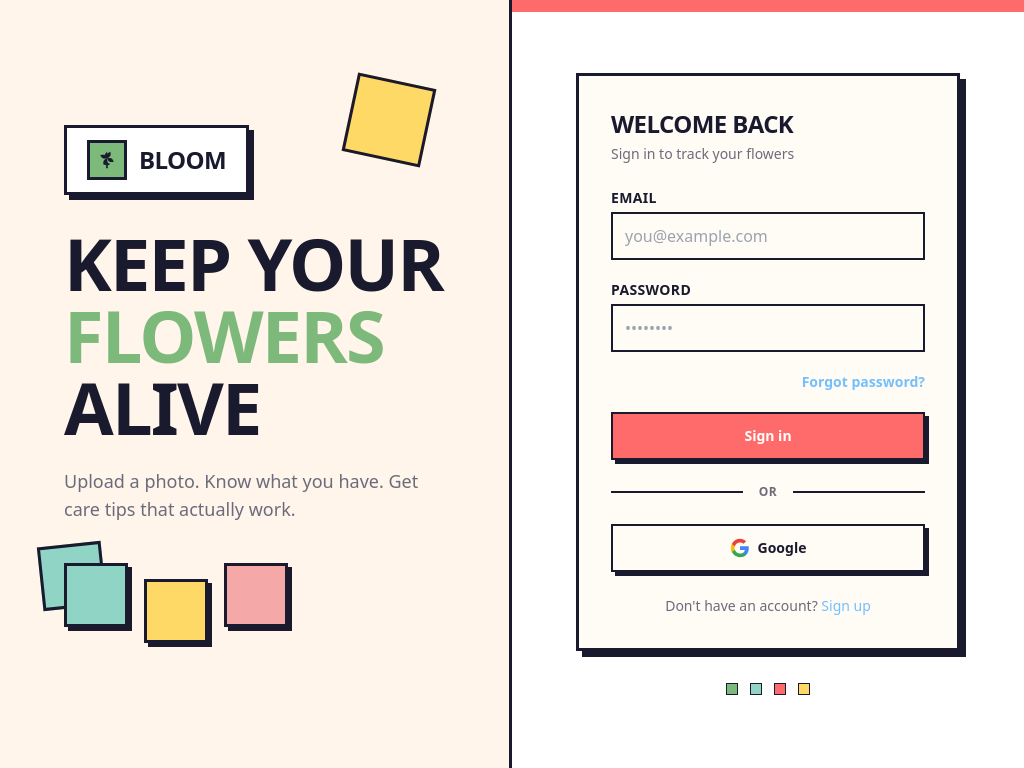
Scenario: LoginPage › shows loading state during submission
Type "user@example.com" into the field labelled "Email". click: (768, 236)
box: x1=611 y1=212 x2=925 y2=260
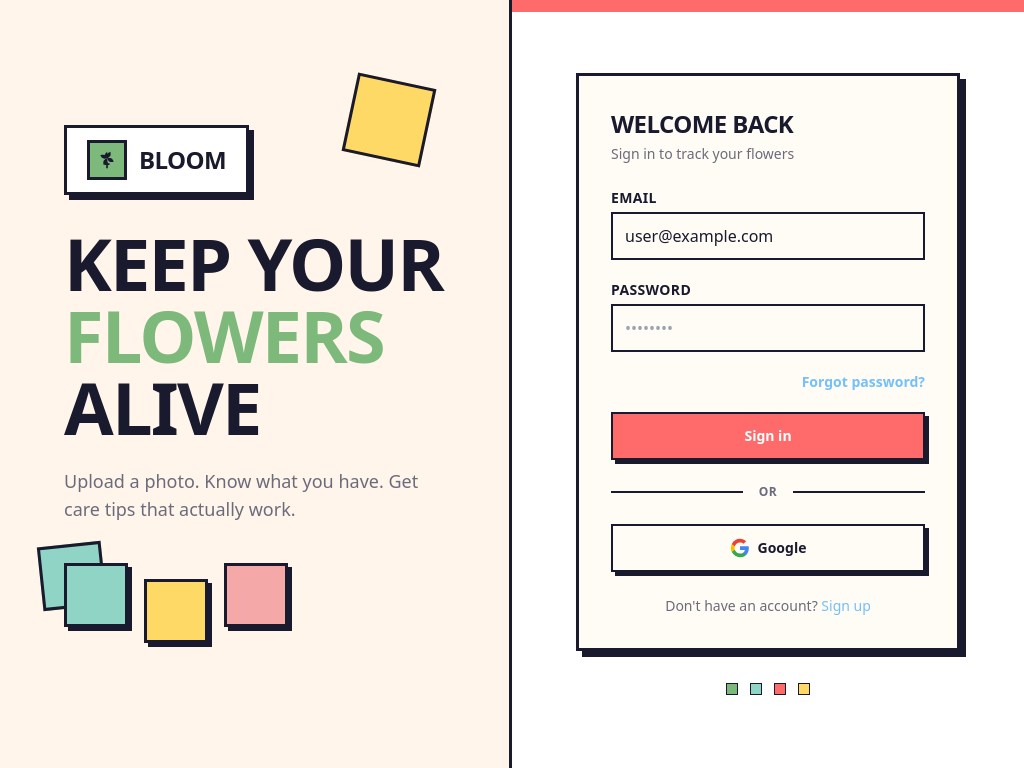
Type "password123" into the password field labelled "Password". click: (768, 328)
box: x1=611 y1=304 x2=925 y2=352
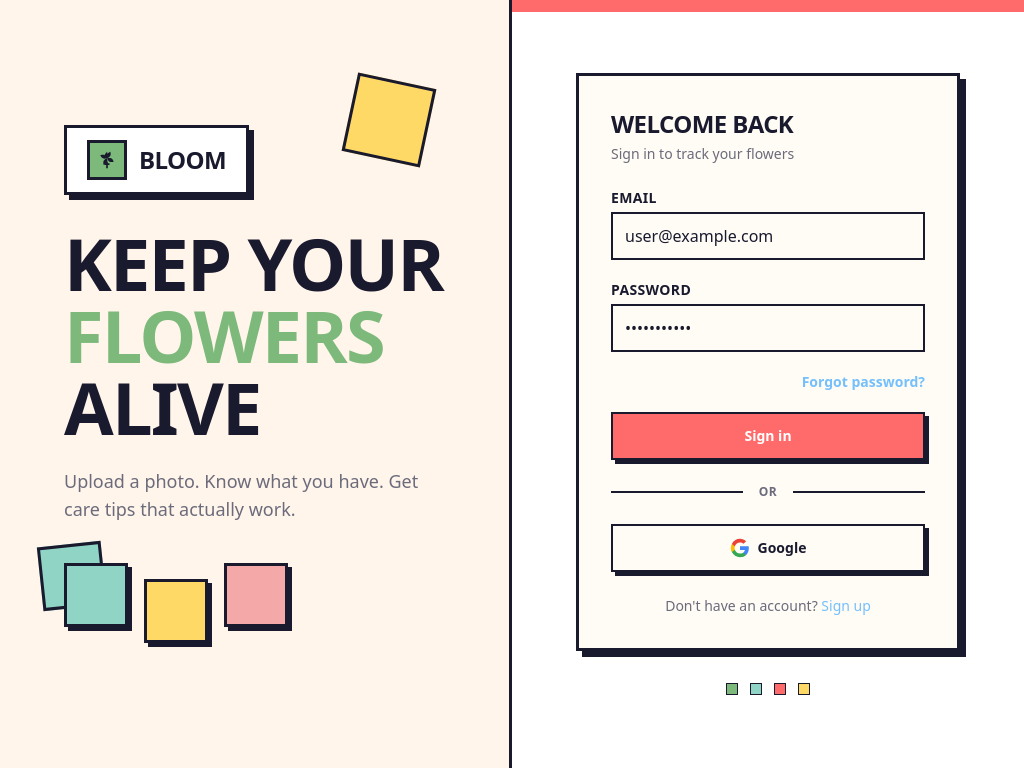
Click the button "Sign in". click: (768, 436)
box: x1=611 y1=412 x2=925 y2=460
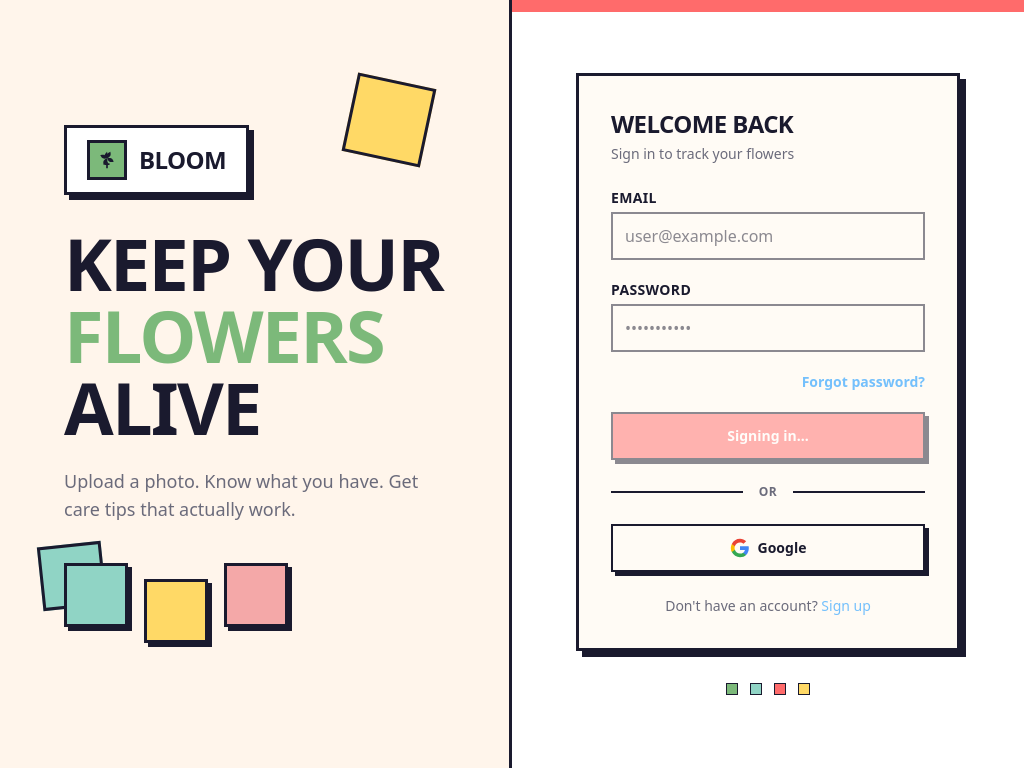
Check: the button "Signing in..." is disabled, box x1=611 y1=412 x2=925 y2=460
